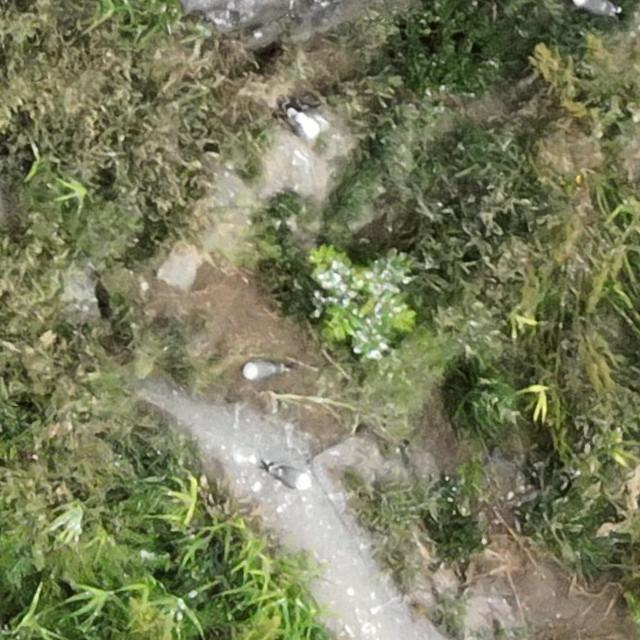umineko: (286, 110, 321, 139), (272, 467, 310, 489), (244, 362, 279, 379), (572, 0, 613, 13)
